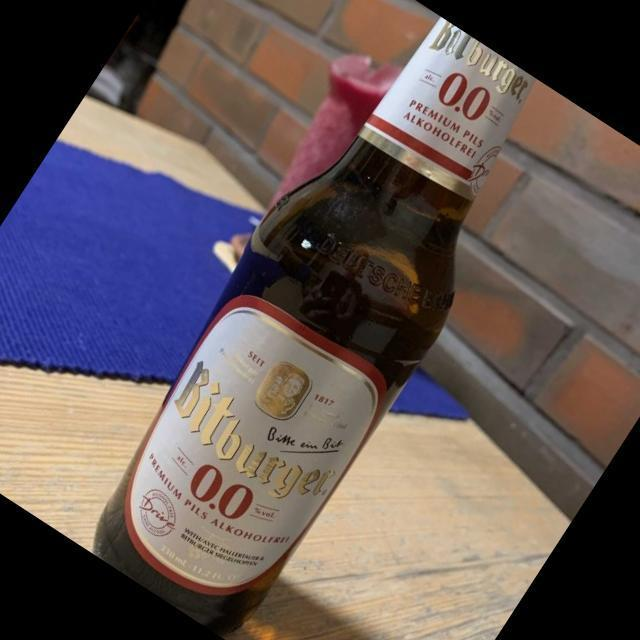Glass: (93, 16, 538, 638)
